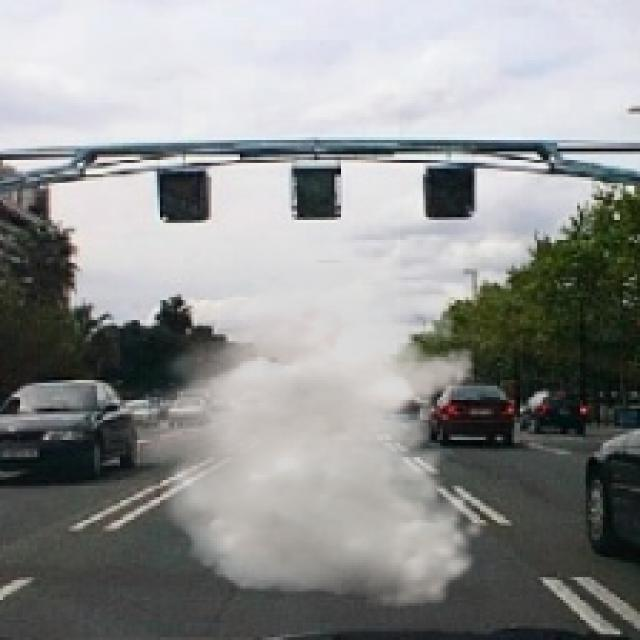smoke: (114, 260, 486, 609)
